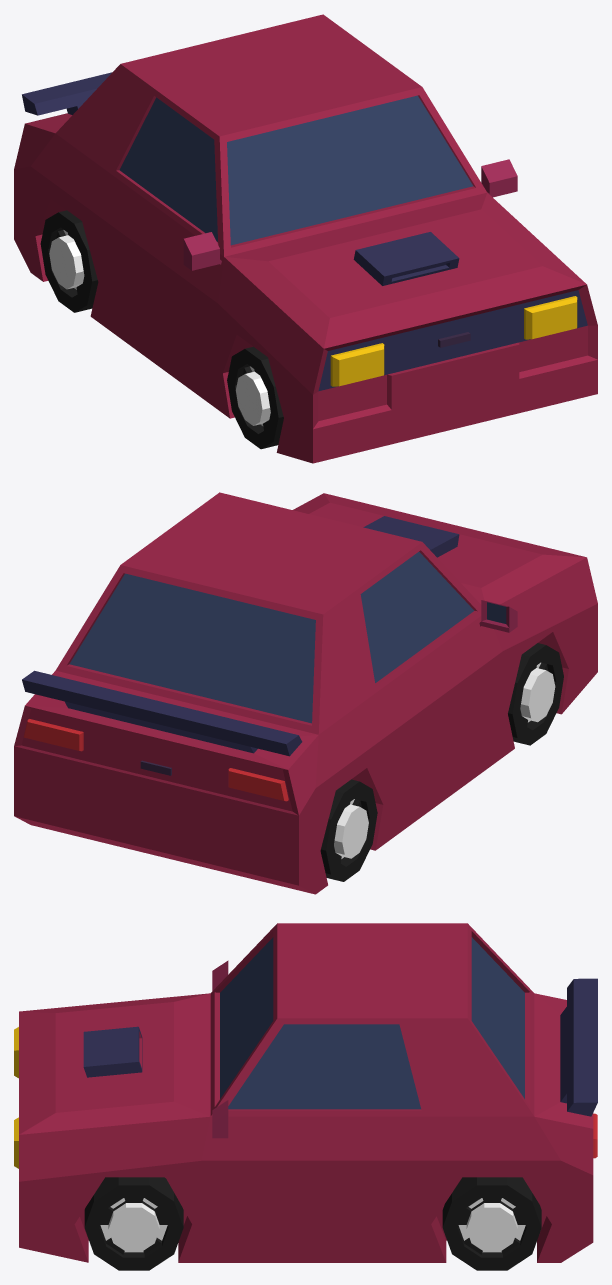
Rendered from musclecar.glb.
3 views of the same model, one above another, from view 1: azimuth 30°, elevation 25°; view 2: azimuth 150°, elevation 25°; view 3: azimuth 270°, elevation 25° (orthographic). The views are drawn at different scales.
Visible parts, largest first — view 1: sports; view 2: sports; view 3: sports.
Part boxes in pixels (x1,y1,x2,y2): sports: (14,14,597,463); sports: (14,492,597,894); sports: (14,923,597,1270).
Size of the model in its own units: 4.4 by 3.13 by 7.12.
Materials: 1 (1 with a texture image).
